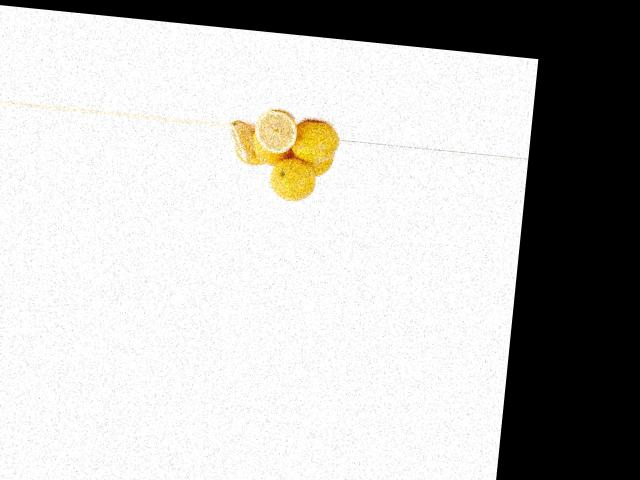lemon: (285, 115, 340, 171)
